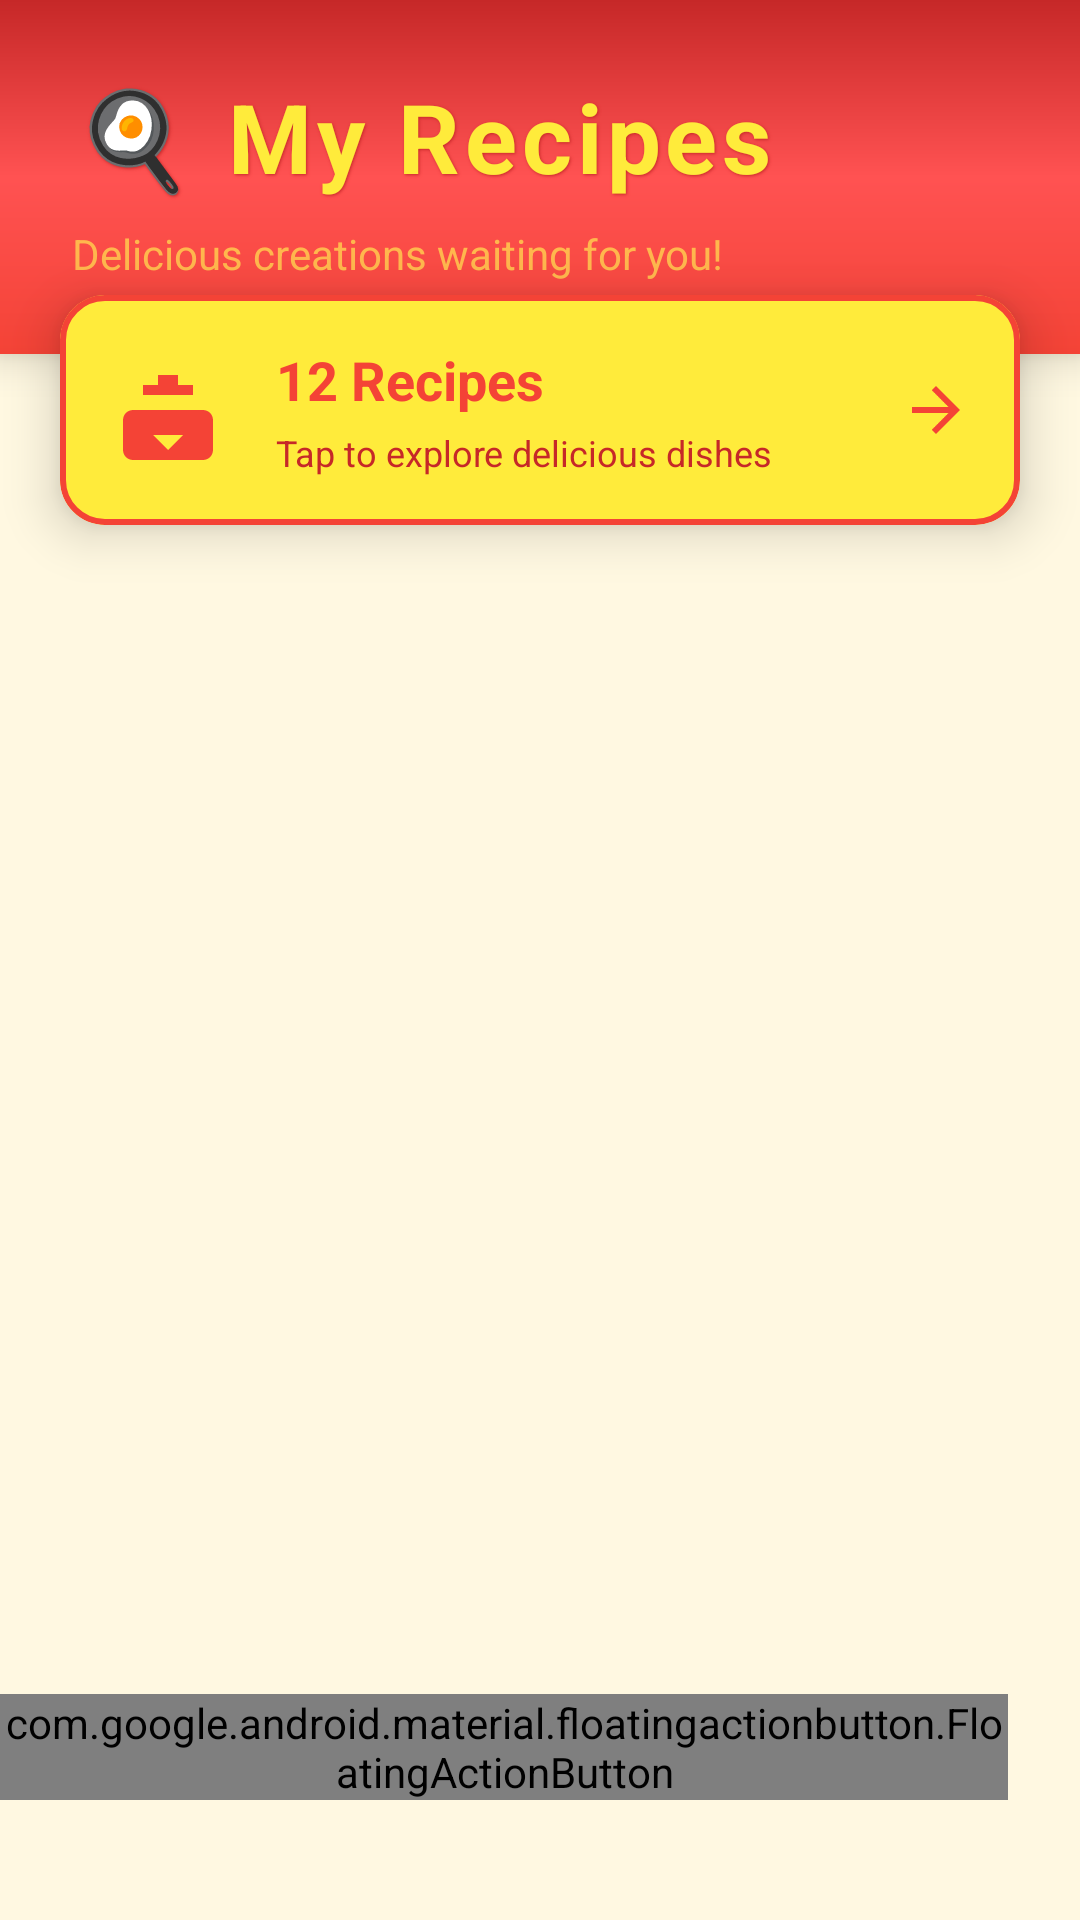

Named icons in this screenshot (1080x1920) and their bounding boxes, rect(x1, y1, x2, y2):
arrow forward: rect(912, 386, 960, 434)
